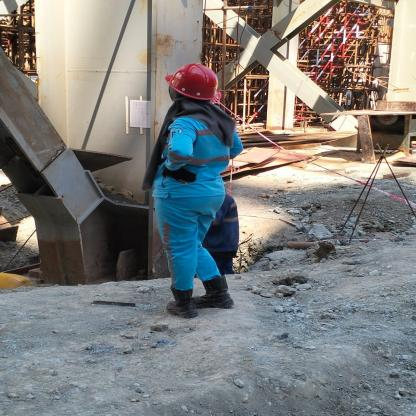bota: (192, 274, 238, 309), (160, 286, 199, 318)
